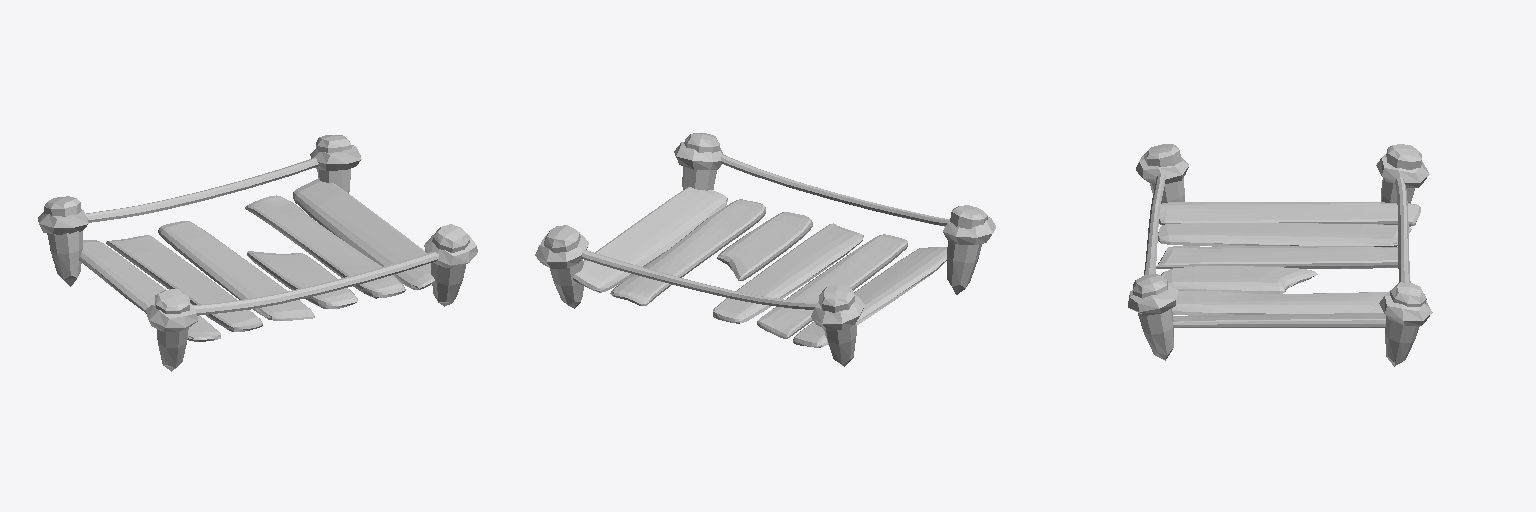
Rendered from large_tropical_bridge.obj.
3 views of the same model, side by side, from view 1: azimuth 30°, elevation 25°; view 2: azimuth 150°, elevation 25°; view 3: azimuth 270°, elevation 25° (orthographic).
Parts seen in each view (by area): view 1: bridge.004_Cube.012, bridge.005_Cube.017, bridge.006_Cube.018; view 2: bridge.004_Cube.012, bridge.005_Cube.017, bridge.006_Cube.018; view 3: bridge.004_Cube.012, bridge.006_Cube.018, bridge.005_Cube.017.
Part boxes in pixels (bbox=[...]): bridge.004_Cube.012: bbox=[79, 178, 434, 341]; bridge.005_Cube.017: bbox=[38, 145, 477, 331]; bridge.006_Cube.018: bbox=[44, 135, 469, 371]; bridge.004_Cube.012: bbox=[573, 187, 946, 347]; bridge.005_Cube.017: bbox=[535, 142, 995, 330]; bridge.006_Cube.018: bbox=[544, 133, 987, 366]; bridge.004_Cube.012: bbox=[1156, 202, 1420, 327]; bridge.006_Cube.018: bbox=[1133, 144, 1426, 366]; bridge.005_Cube.017: bbox=[1128, 153, 1432, 325].
Bounding box in the file's own units: 15.57 × 3.98 × 12.39.